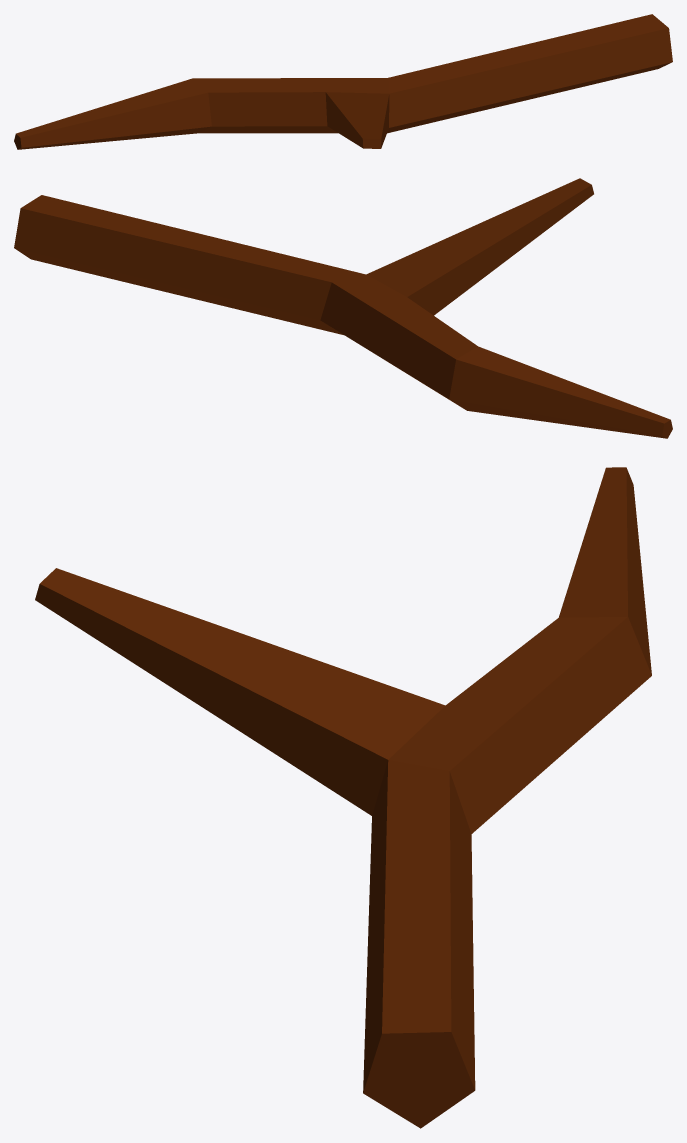
Rendered from grana3.fbx.
3 renders of one model, top to bottom at view 1: azimuth 30°, elevation 25°; view 2: azimuth 150°, elevation 25°; view 3: azimuth 270°, elevation 25°, orthographic. The views are drawn at different scales.
Visible parts, largest first — view 1: grana3; view 2: grana3; view 3: grana3.
Part boxes in pixels (left/top/right/bottom): grana3: left=14, top=14, right=672, bottom=149; grana3: left=14, top=178, right=672, bottom=438; grana3: left=35, top=467, right=651, bottom=1128.
Bounding box in the file's own units: 85.85 × 12.63 × 38.65.
